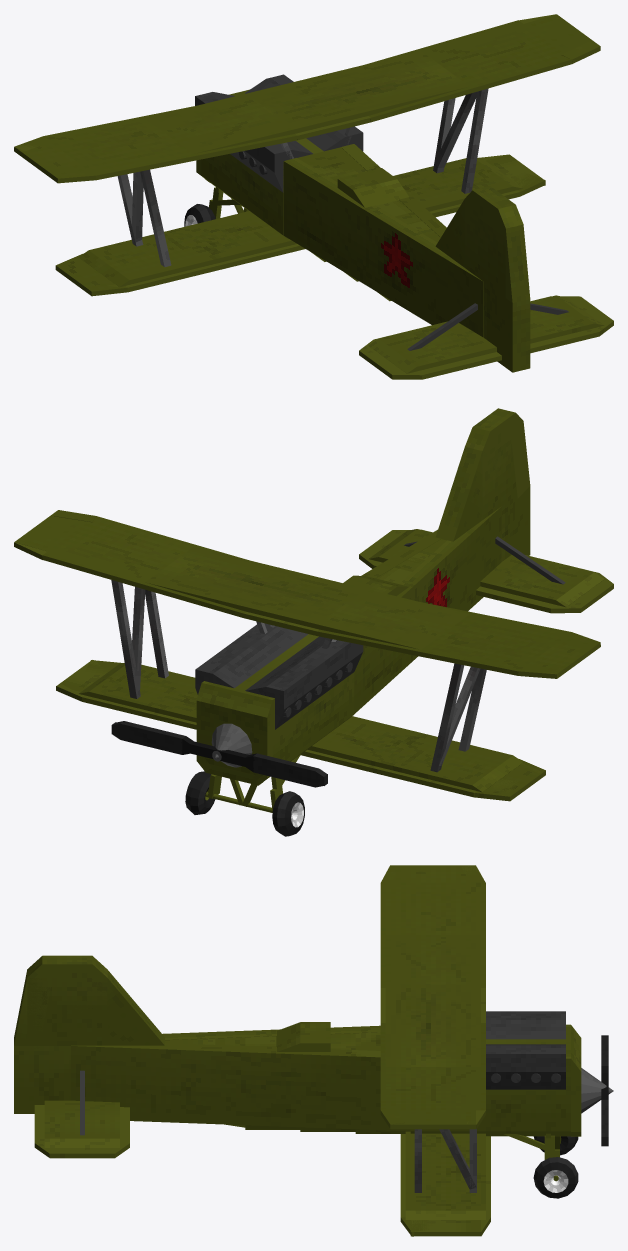
The picture shows the model from 3 angles, top to bottom: view 1: azimuth 30°, elevation 25°; view 2: azimuth 150°, elevation 25°; view 3: azimuth 270°, elevation 25°; orthographic projection. The views are drawn at different scales.
Visible parts, largest first — view 1: cube (×41), torus; view 2: cube (×41), torus (×2), cone; view 3: cube (×34), torus, cone.
Part boxes in pixels (<box>): cube (×41): <box>14,14,599,379</box>; torus: <box>184,204,215,226</box>; cube (×41): <box>15,408,613,801</box>; torus (×2): <box>185,771,304,836</box>; cone: <box>211,723,252,767</box>; cube (×34): <box>14,865,581,1236</box>; torus: <box>533,1157,578,1198</box>; cone: <box>581,1068,613,1113</box>.
Bounding box in the file's own units: 7.66 × 2.99 × 7.48.
2 materials, 2 textured.
